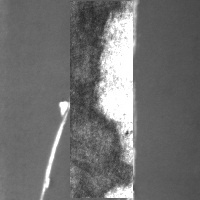patches: (70, 1, 133, 198)
scratches: (38, 2, 124, 198), (122, 90, 140, 199), (128, 1, 141, 56)
